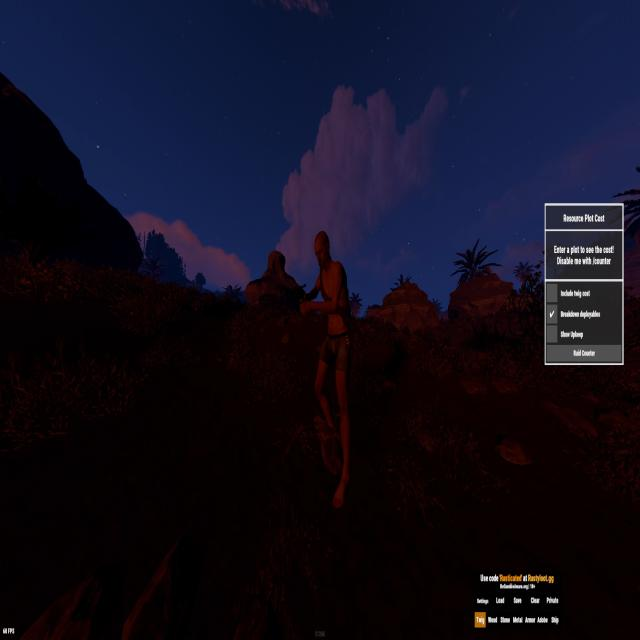Player: (307, 230, 353, 509)
